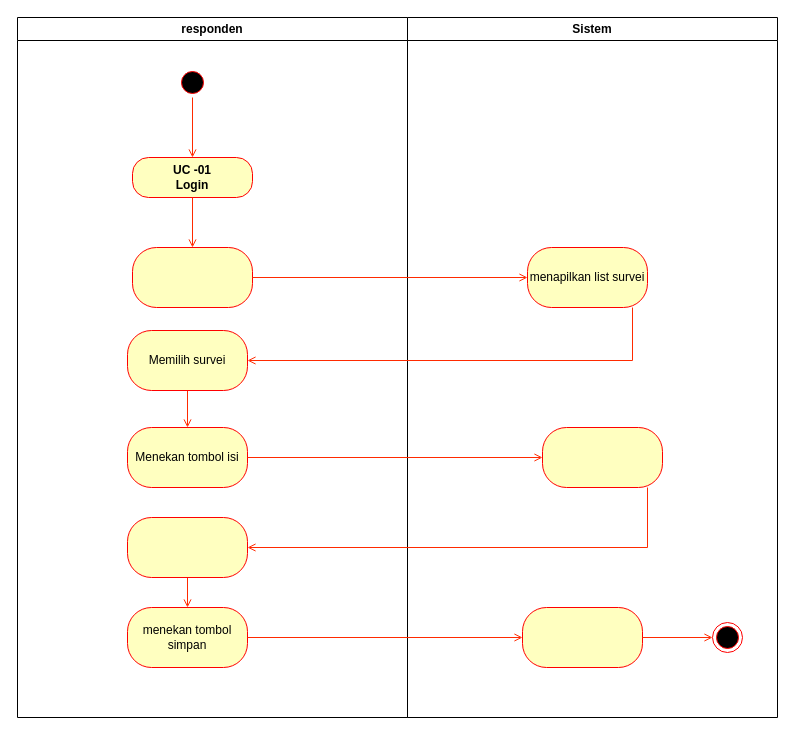
Some shapes in this 795 by 735 pixel diagram are drawn without their labels. Each missing label, with the centre of its shape:
"Memilih menu lihat survei yang tersedia" belongs at point (192, 277).
"mengisi survei" belongs at point (187, 547).
"menpilkan form pengisian survei" belongs at point (602, 457).
"menpilkan survei telh diisi" belongs at point (582, 637).
